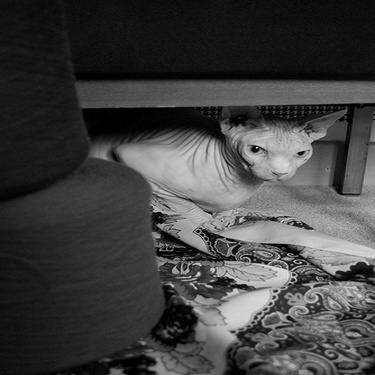cat: (90, 106, 350, 215)
